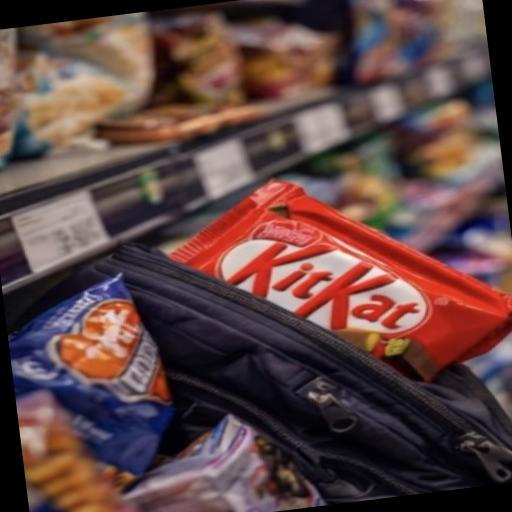kitkat: (105, 118, 512, 443)
